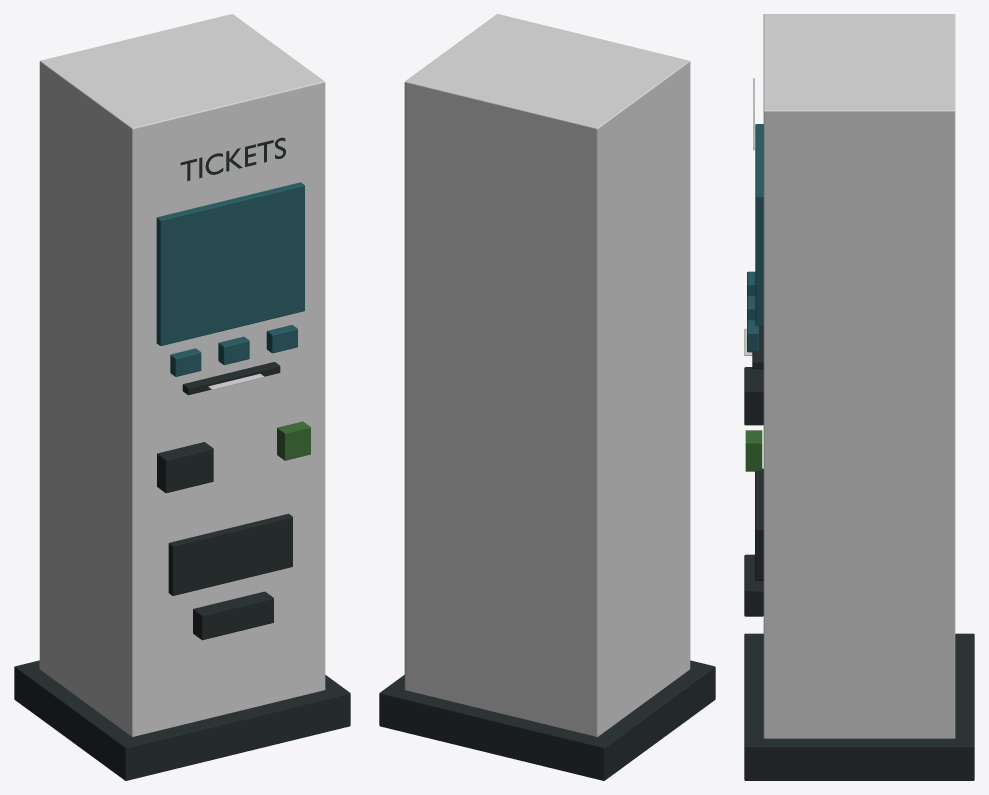
Rendered from ticket-machine.glb.
3 views of the same model, side by side, from view 1: azimuth 30°, elevation 25°; view 2: azimuth 150°, elevation 25°; view 3: azimuth 270°, elevation 25° (orthographic). The views are drawn at different scales.
Visible parts, largest first — view 1: Cabinet, Screen, Base, Receipt_Recess, Coin_Return, Card_Reader, Button, Slot, Editable_Label_TICKETS, Fare_Selection_Button, Fare_Selection_Button.001, Fare_Selection_Button.002; view 2: Cabinet, Base; view 3: Cabinet, Base, Screen, Card_Reader, Coin_Return, Receipt_Recess, Button.
Part boxes in pixels (<box>): Cabinet: <box>39,14,325,736</box>; Screen: <box>156,182,304,345</box>; Base: <box>14,660,350,780</box>; Receipt_Recess: <box>168,513,292,595</box>; Coin_Return: <box>193,591,273,640</box>; Card_Reader: <box>157,442,213,493</box>; Button: <box>277,421,310,460</box>; Slot: <box>182,362,280,395</box>; Editable_Label_TICKETS: <box>180,137,285,181</box>; Fare_Selection_Button: <box>170,348,201,376</box>; Fare_Selection_Button.001: <box>218,336,249,365</box>; Fare_Selection_Button.002: <box>266,325,297,353</box>; Cabinet: <box>404,14,690,736</box>; Base: <box>379,660,715,780</box>; Cabinet: <box>763,14,955,738</box>; Base: <box>744,633,974,780</box>; Screen: <box>755,124,763,326</box>; Card_Reader: <box>744,367,763,425</box>; Coin_Return: <box>744,554,763,616</box>; Receipt_Recess: <box>755,468,763,580</box>; Button: <box>745,430,762,471</box>.
Bounding box in the file's own units: 0.56 × 1.53 × 0.48.
